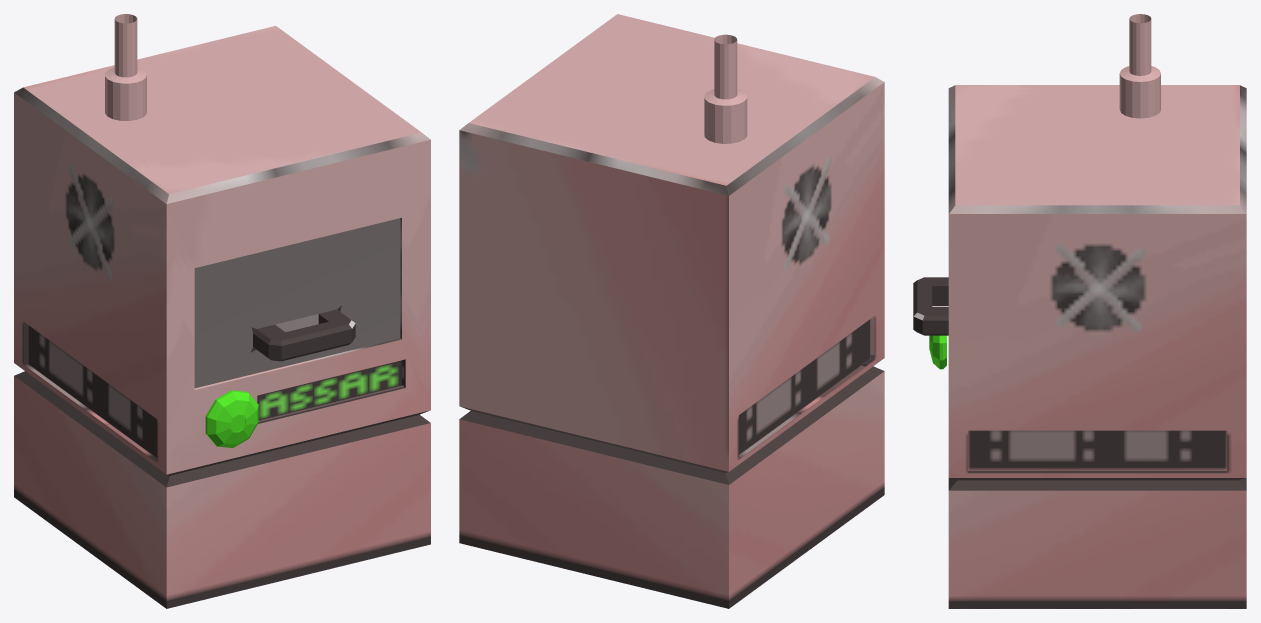
Rendered from pizzaOven.fbx.
The picture shows the model from 3 angles, left to right: view 1: azimuth 30°, elevation 25°; view 2: azimuth 150°, elevation 25°; view 3: azimuth 270°, elevation 25°; orthographic projection. The views are drawn at different scales.
Parts seen in each view (by area): view 1: Cube, Cube.001, Cylinder.001; view 2: Cube; view 3: Cube, Cube.001, Cylinder.001.
Part boxes in pixels (left/top/right/bottom): Cube: left=14, top=14, right=430, bottom=608; Cube.001: left=194, top=218, right=400, bottom=388; Cylinder.001: left=205, top=390, right=258, bottom=447; Cube: left=459, top=14, right=884, bottom=608; Cube: left=948, top=14, right=1246, bottom=608; Cube.001: left=913, top=277, right=948, bottom=335; Cylinder.001: left=929, top=335, right=946, bottom=369.
Size of the model in its own units: 110 by 201 by 123.
Materials: 2 (1 with a texture image).
